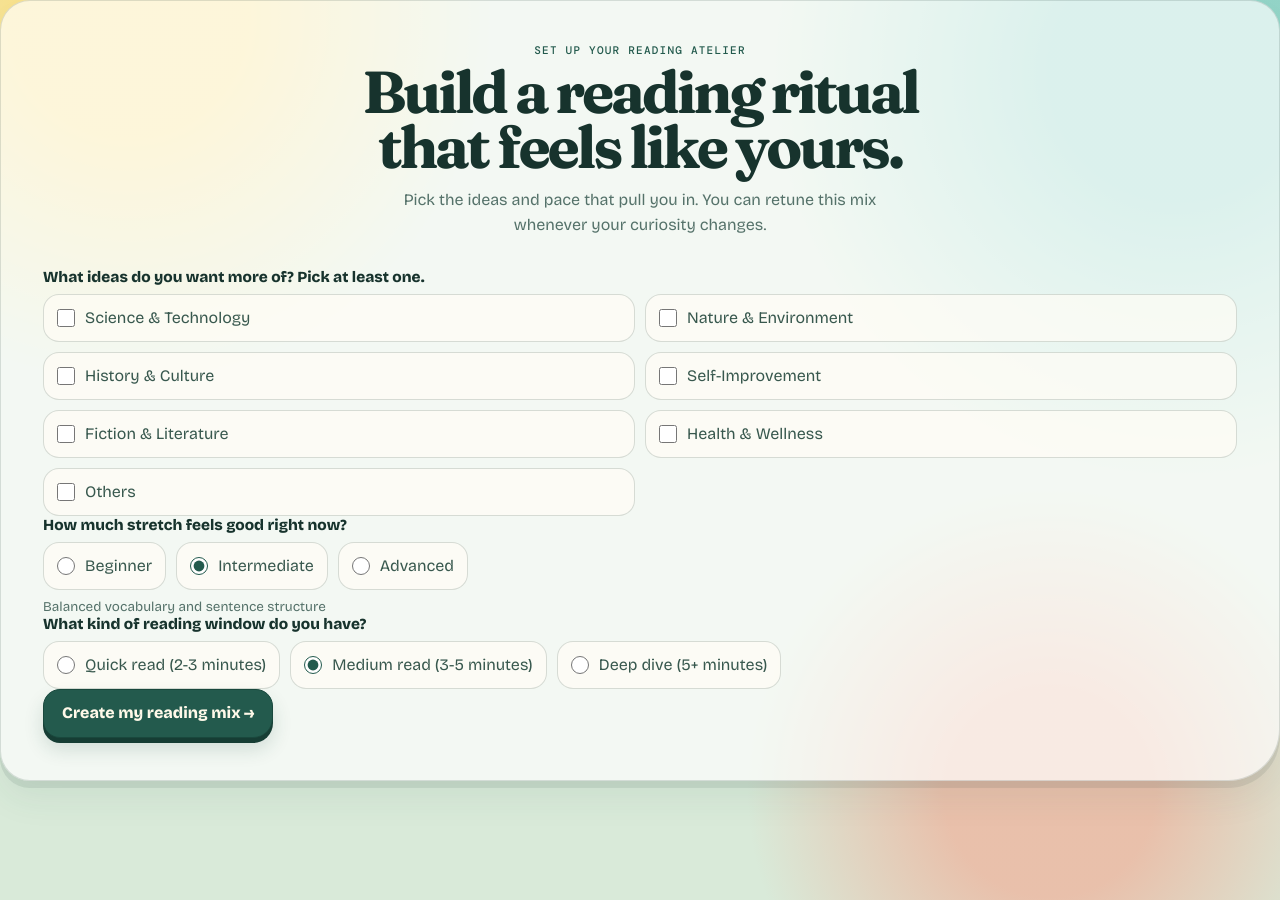
Test: PreferenceForm › shows the mapped service error when saving fails
This screenshot has width=1280, height=900.
Step 1. Click the checkbox labelled "Nature & Environment" → (668, 318), box [659,309,677,327]
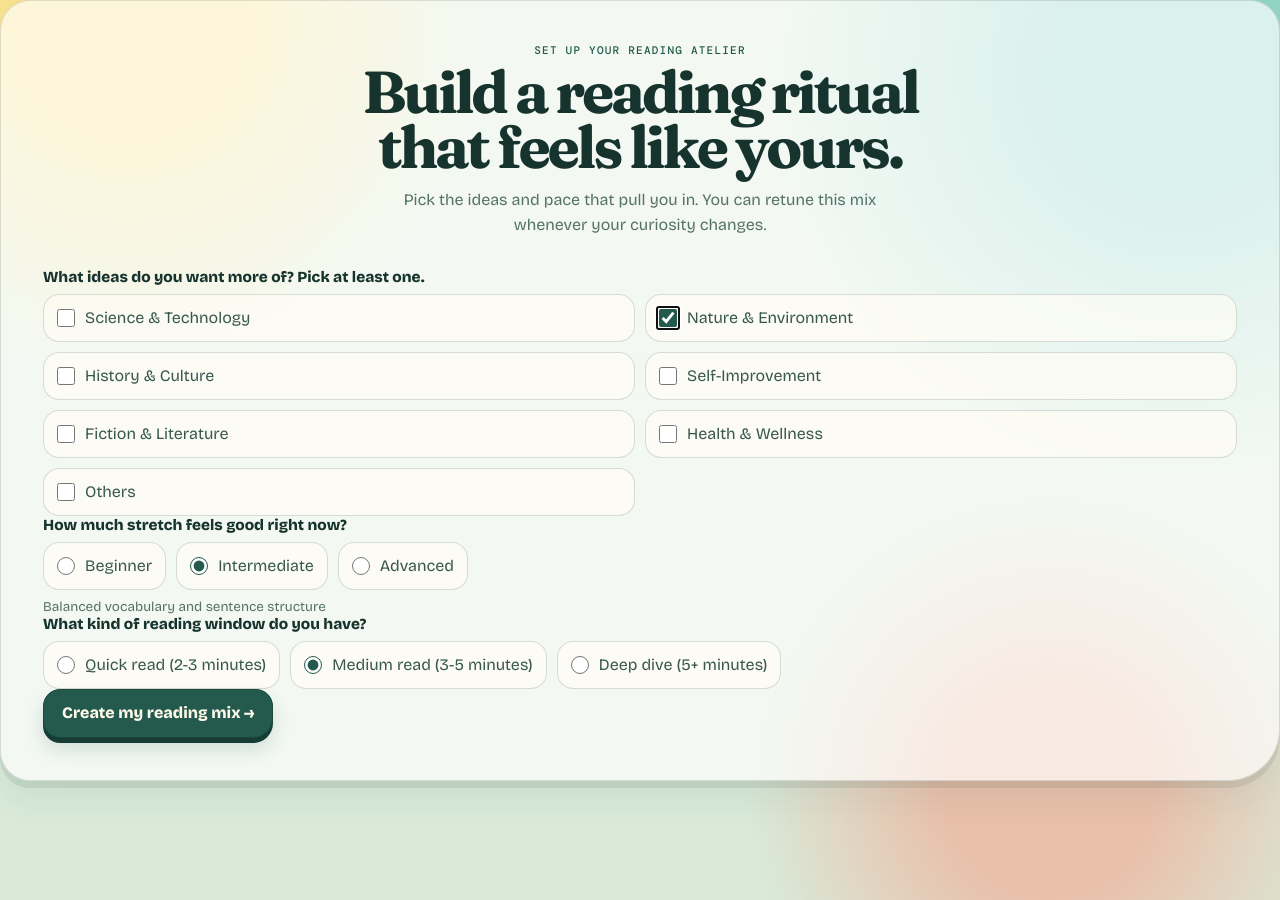
Step 2. Click the button "Create my reading mix →" → (158, 713), box [43,689,273,738]
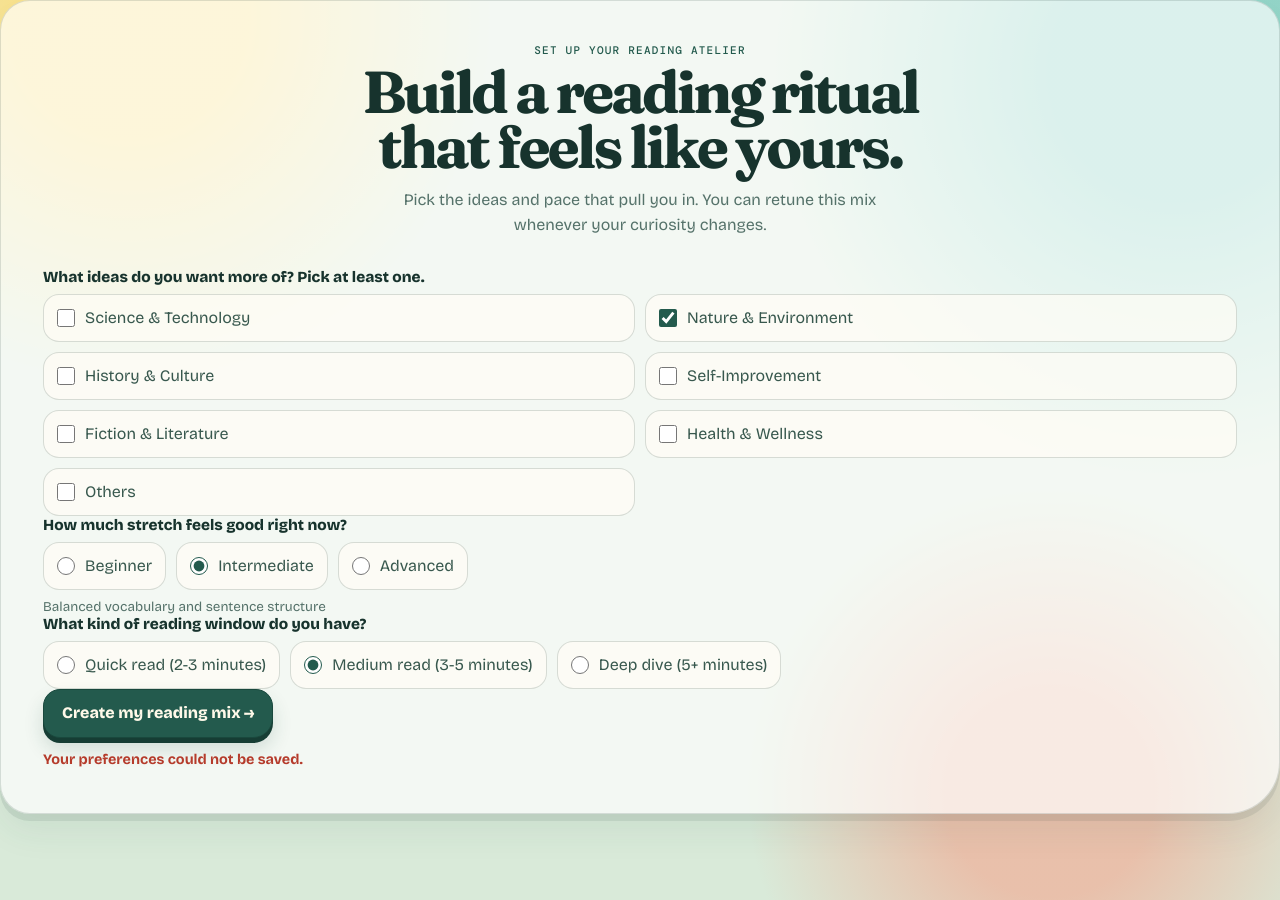
Expected: the message reads "Your preferences could not be saved.", [43,751,303,768]
